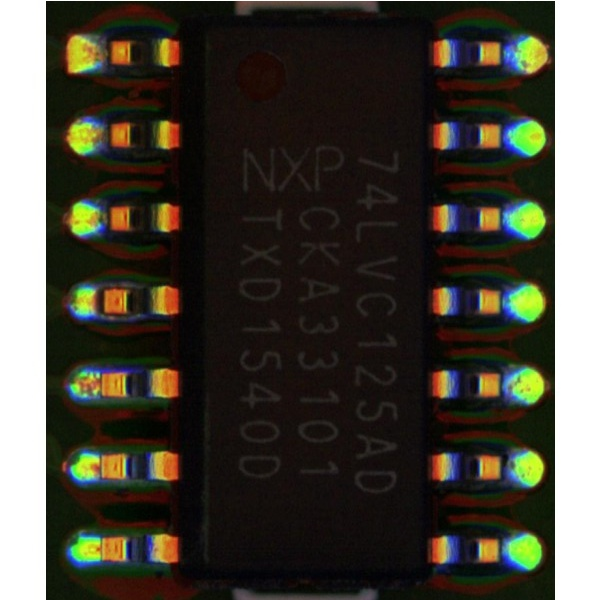Bad_podu: (88, 540, 112, 559), (91, 373, 109, 395), (86, 457, 107, 475)
